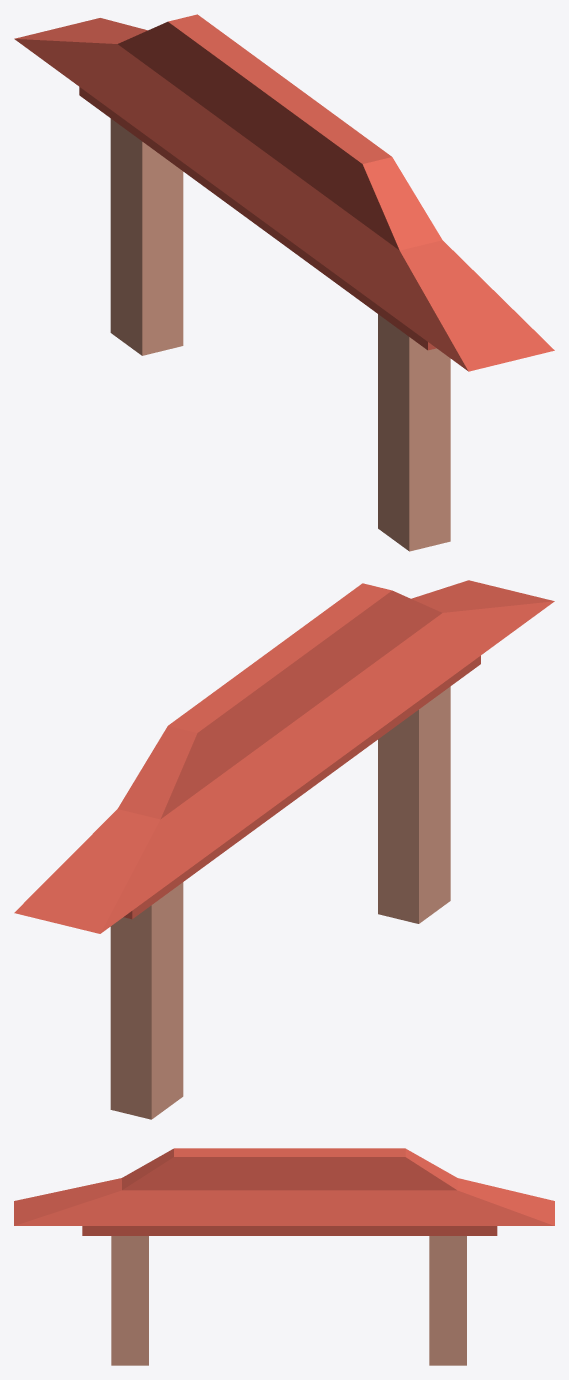
File: Gateway.fbx
3 renders of one model, top to bottom at view 1: azimuth 30°, elevation 25°; view 2: azimuth 150°, elevation 25°; view 3: azimuth 270°, elevation 25°, orthographic. The views are drawn at different scales.
Visible parts, largest first — view 1: Cube.002, Cube; view 2: Cube.002, Cube; view 3: Cube.002, Cube.
Boxes of the visible parts, left/top/right/bottom form: Cube.002: left=14, top=14, right=554, bottom=371; Cube: left=110, top=118, right=450, bottom=551; Cube.002: left=14, top=580, right=554, bottom=933; Cube: left=110, top=686, right=450, bottom=1119; Cube.002: left=14, top=1148, right=554, bottom=1235; Cube: left=111, top=1236, right=466, bottom=1365.
Bounding box in the file's own units: 421 × 1620 × 3840.
